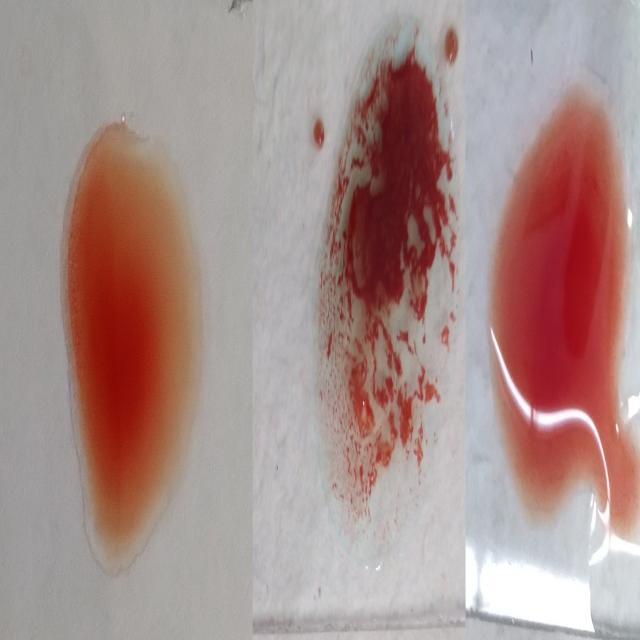A: (314, 9, 456, 515)
